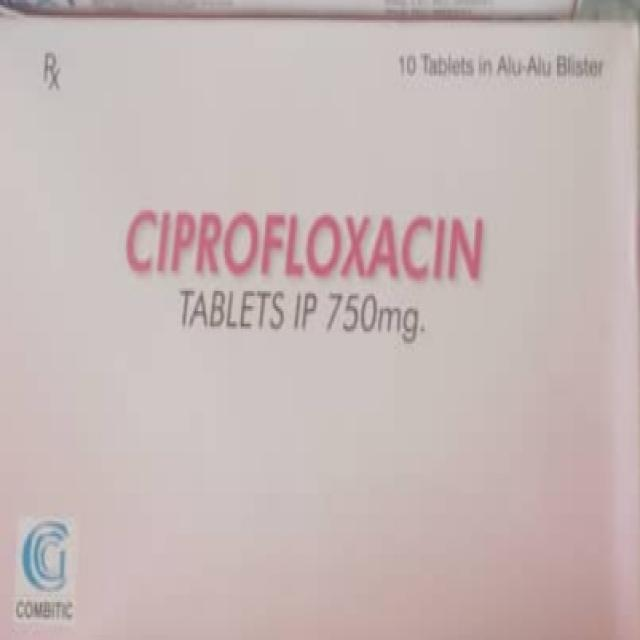drug-name: (121, 202, 488, 287)
